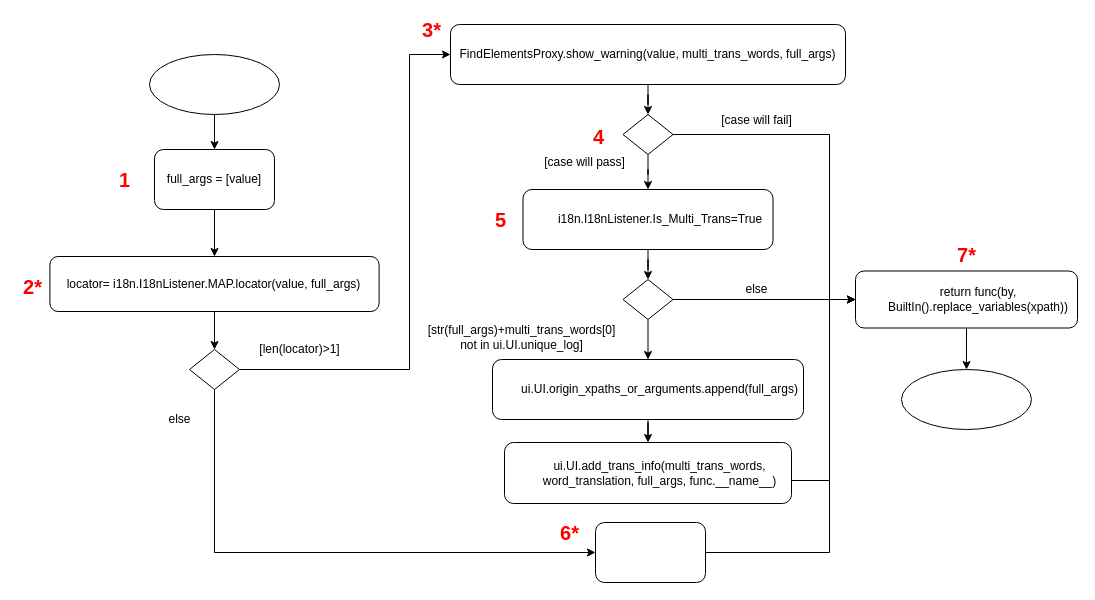
Some shapes in this 1095 by 600 pixel diagram are drawn without their labels. Each missing label, with the box of its shape:
FindElementsProxy end: (900, 368, 1032, 430)
FindElementsProxy start: (148, 54, 280, 114)
xpath= locator[0]: (594, 522, 706, 582)
